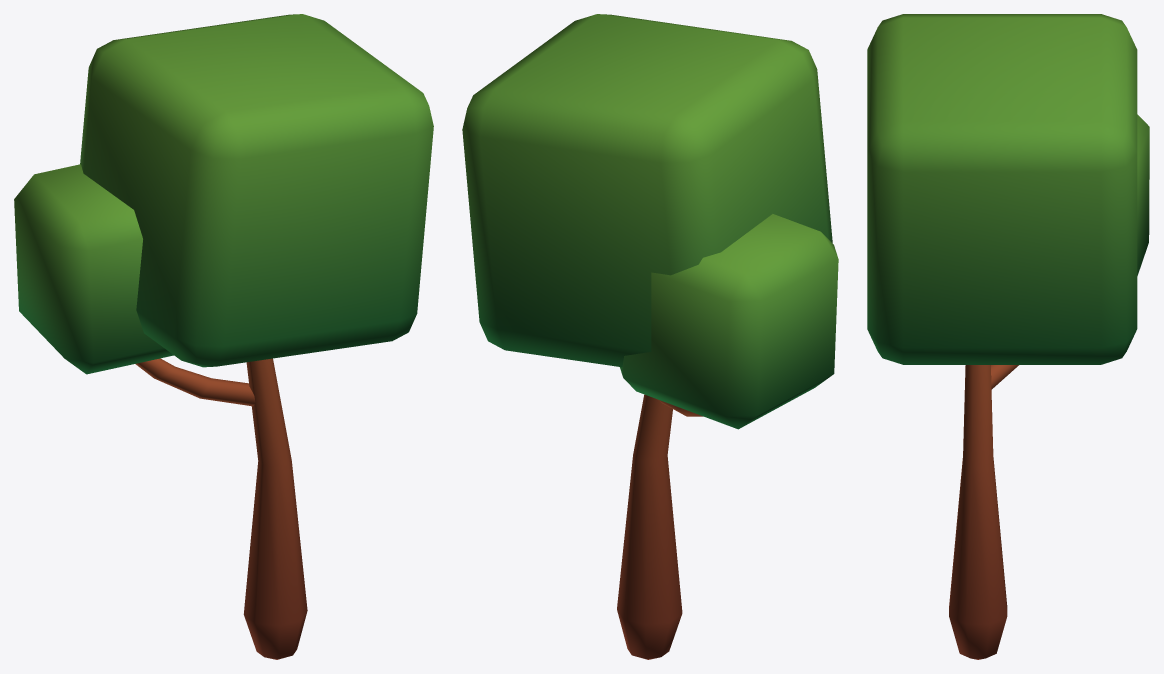
The model's file is Tree_2_A.glb.
3 views of the same model, side by side, from view 1: azimuth 30°, elevation 25°; view 2: azimuth 150°, elevation 25°; view 3: azimuth 270°, elevation 25° (orthographic). The views are drawn at different scales.
Bounding box in the file's own units: 2.6 × 4.67 × 2.
